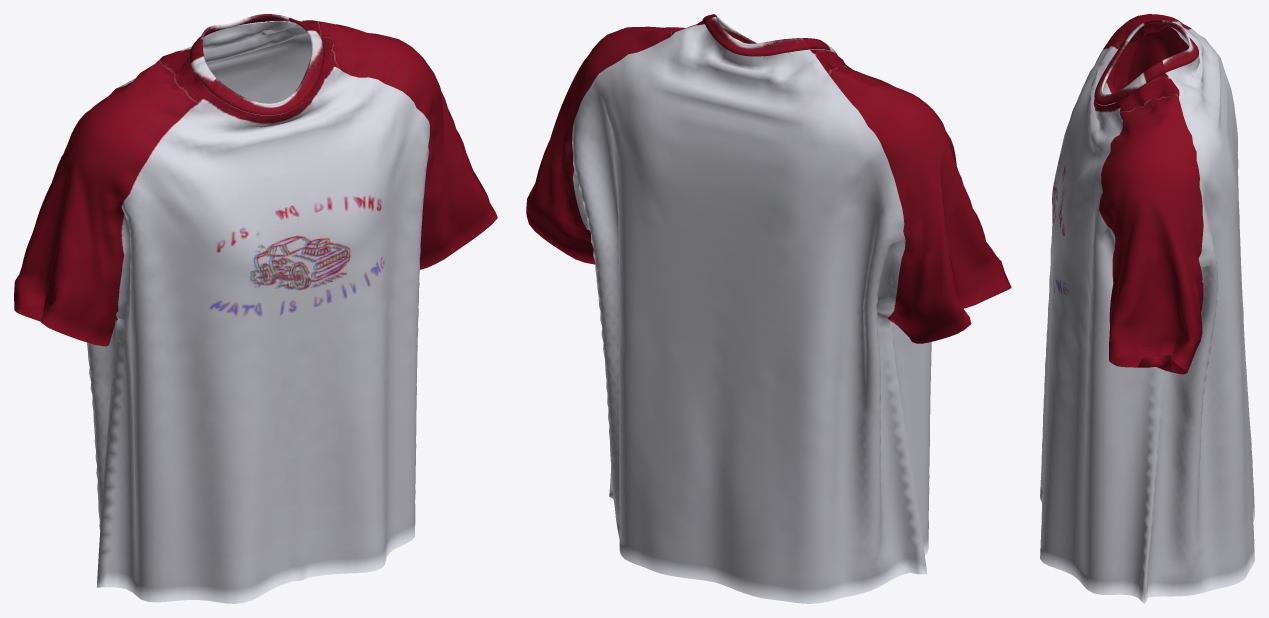
The model's file is tee-XL.glb.
The picture shows the model from 3 angles, left to right: view 1: azimuth 30°, elevation 25°; view 2: azimuth 150°, elevation 25°; view 3: azimuth 270°, elevation 25°; orthographic projection. The views are drawn at different scales.
Visible parts, largest first — view 1: tee; view 2: tee; view 3: tee.
Boxes of the visible parts, left/top/right/bottom form: tee: left=14, top=14, right=497, bottom=603; tee: left=526, top=14, right=1011, bottom=603; tee: left=1040, top=14, right=1254, bottom=603.
Size of the model in its own units: 0.6457 by 0.7107 by 0.2774.
Materials: 2 (2 with a texture image).
